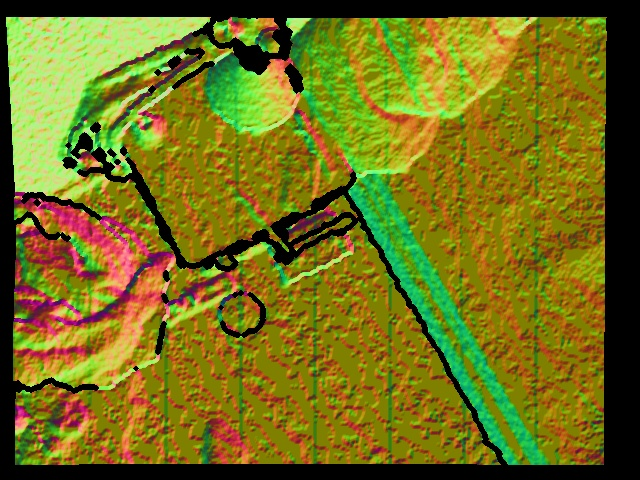station: (268, 209, 355, 286)
